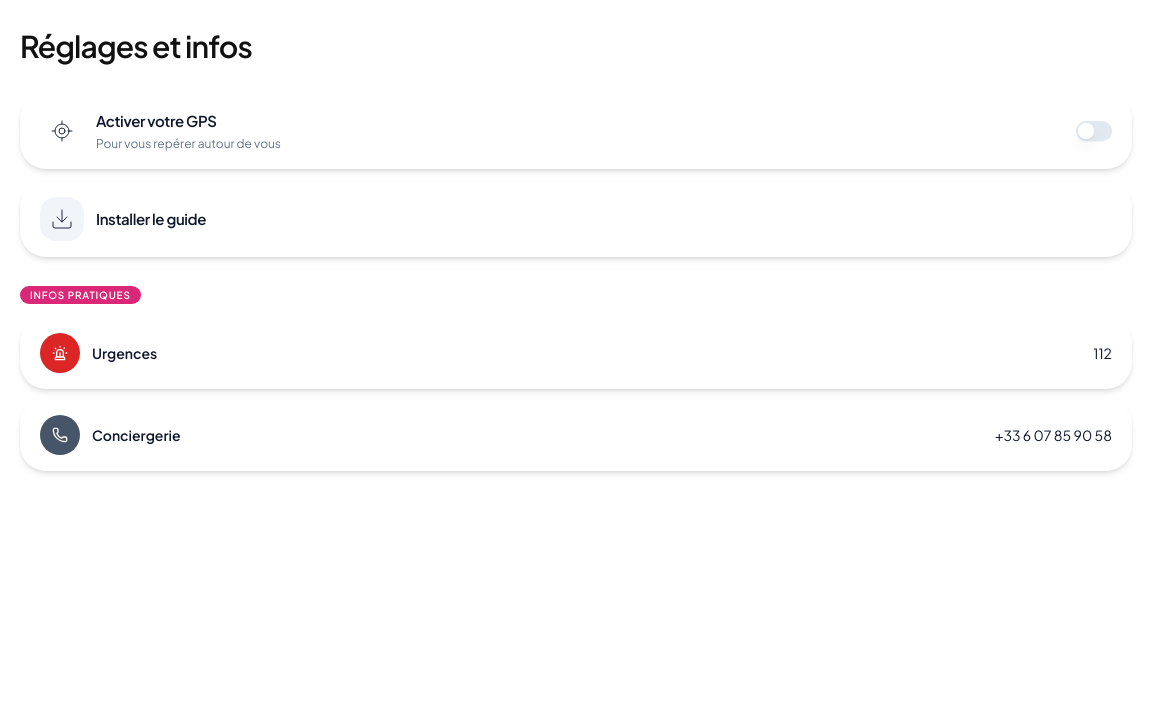
it: A1 AC-01-04: première étape adaptée à Chrome sur iPhone
Click the button "Installer le guide". click: (62, 219)
box: [20,181,1132,257]
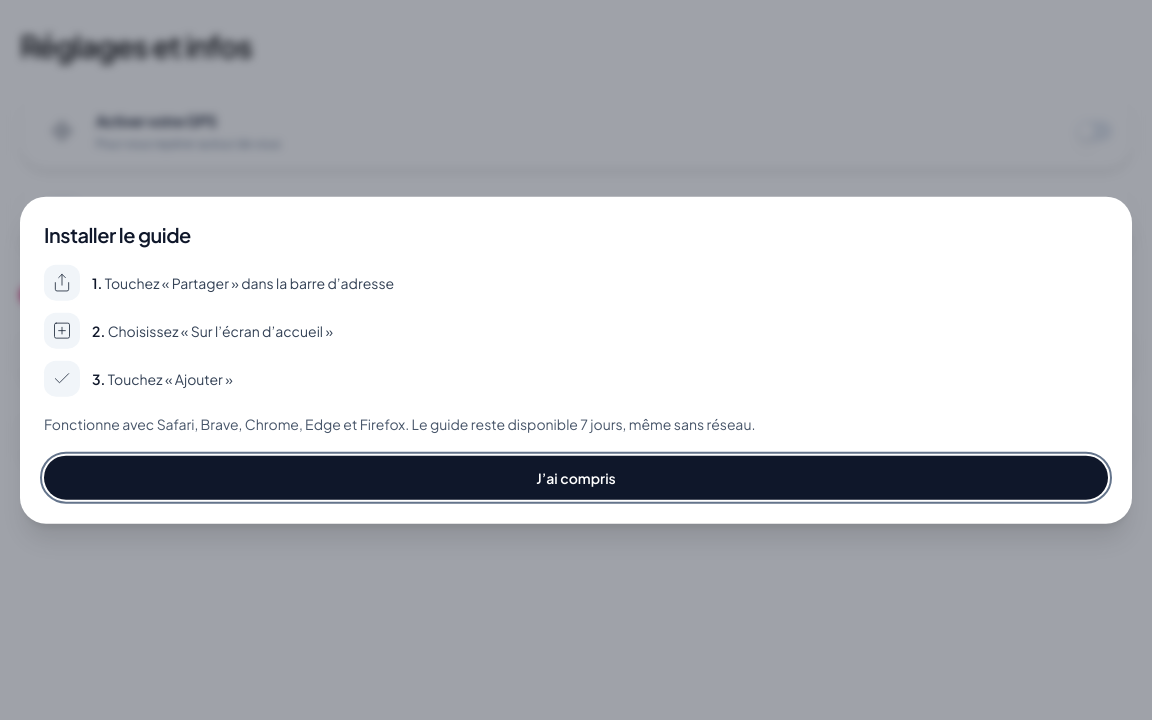
Expected: the list item "1. Touchez « Partager » dans la barre d’adresse" is shown, [44,265,394,301]
Expected: the list item "2. Choisissez « Sur l’écran d’accueil »" is shown, [44,313,333,349]
